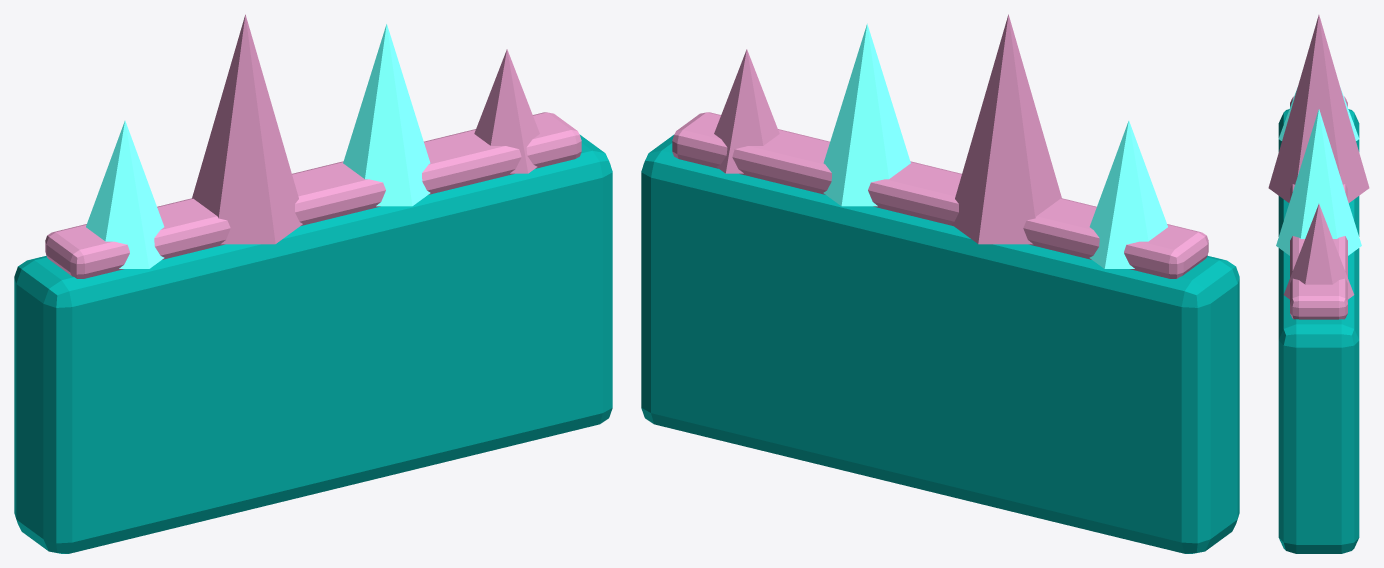
The model's file is wall-crystal.glb.
The picture shows the model from 3 angles, left to right: view 1: azimuth 30°, elevation 25°; view 2: azimuth 150°, elevation 25°; view 3: azimuth 270°, elevation 25°; orthographic projection. The views are drawn at different scales.
Parts seen in each view (by area): view 1: mesh_wall_crystal_body, mesh_wall_crystal_accent, mesh_wall_crystal_aqua; view 2: mesh_wall_crystal_body, mesh_wall_crystal_accent, mesh_wall_crystal_aqua; view 3: mesh_wall_crystal_body, mesh_wall_crystal_accent, mesh_wall_crystal_aqua.
Boxes of the visible parts, bbox=[...] form: mesh_wall_crystal_body: bbox=[14, 134, 612, 553]; mesh_wall_crystal_accent: bbox=[45, 14, 581, 278]; mesh_wall_crystal_aqua: bbox=[86, 24, 430, 268]; mesh_wall_crystal_body: bbox=[641, 134, 1239, 553]; mesh_wall_crystal_accent: bbox=[672, 14, 1208, 278]; mesh_wall_crystal_aqua: bbox=[823, 24, 1167, 268]; mesh_wall_crystal_body: bbox=[1278, 109, 1359, 553]; mesh_wall_crystal_accent: bbox=[1268, 15, 1369, 319]; mesh_wall_crystal_aqua: bbox=[1276, 87, 1361, 255].
Bounding box in the file's own units: 1.08 × 0.88 × 0.2.
